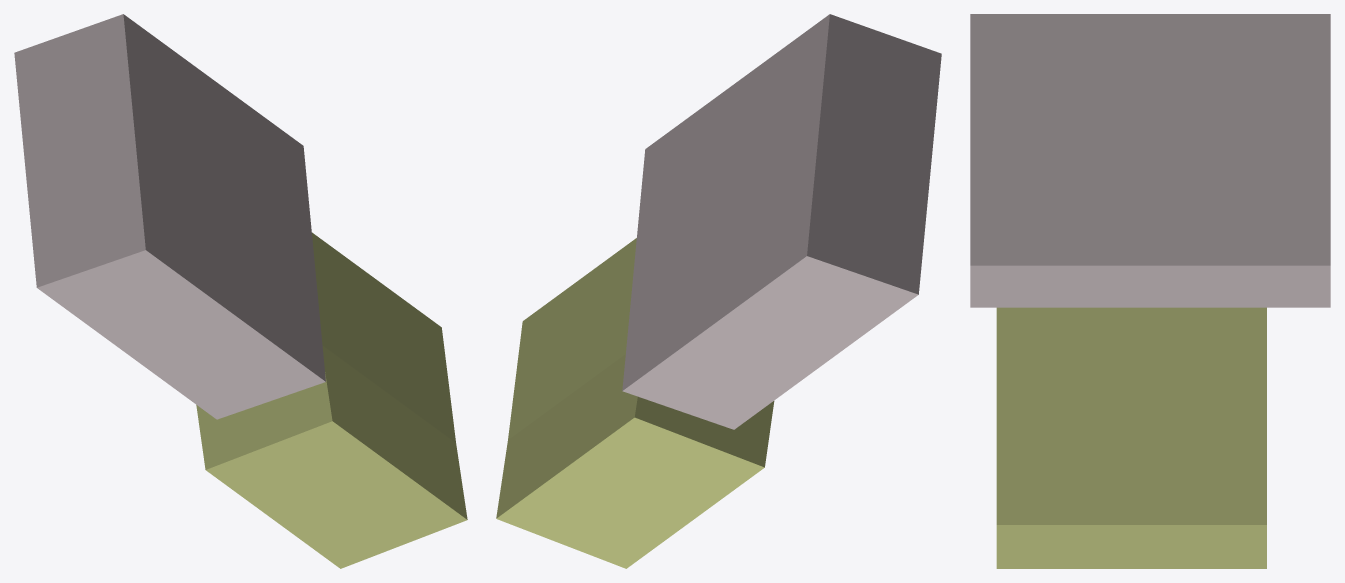
3 renders of one model, left to right at view 1: azimuth 30°, elevation 25°; view 2: azimuth 150°, elevation 25°; view 3: azimuth 270°, elevation 25°, orthographic. The views are drawn at different scales.
Parts seen in each view (by area): view 1: 0_1_2_3_0_0_0_3_0_3; view 2: 0_1_2_3_0_0_0_3_0_3; view 3: 0_1_2_3_0_0_0_3_0_3.
Boxes of the visible parts, x1,y1,x2,y2 form: 0_1_2_3_0_0_0_3_0_3: [14, 14, 467, 568]; 0_1_2_3_0_0_0_3_0_3: [496, 14, 941, 568]; 0_1_2_3_0_0_0_3_0_3: [970, 14, 1330, 568].
Bounding box in the file's own units: 11.01 × 16.35 × 12.
